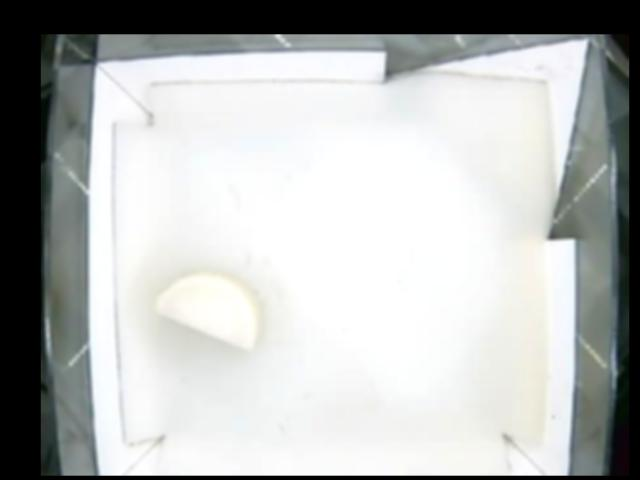Mooli: (143, 268, 260, 350)
